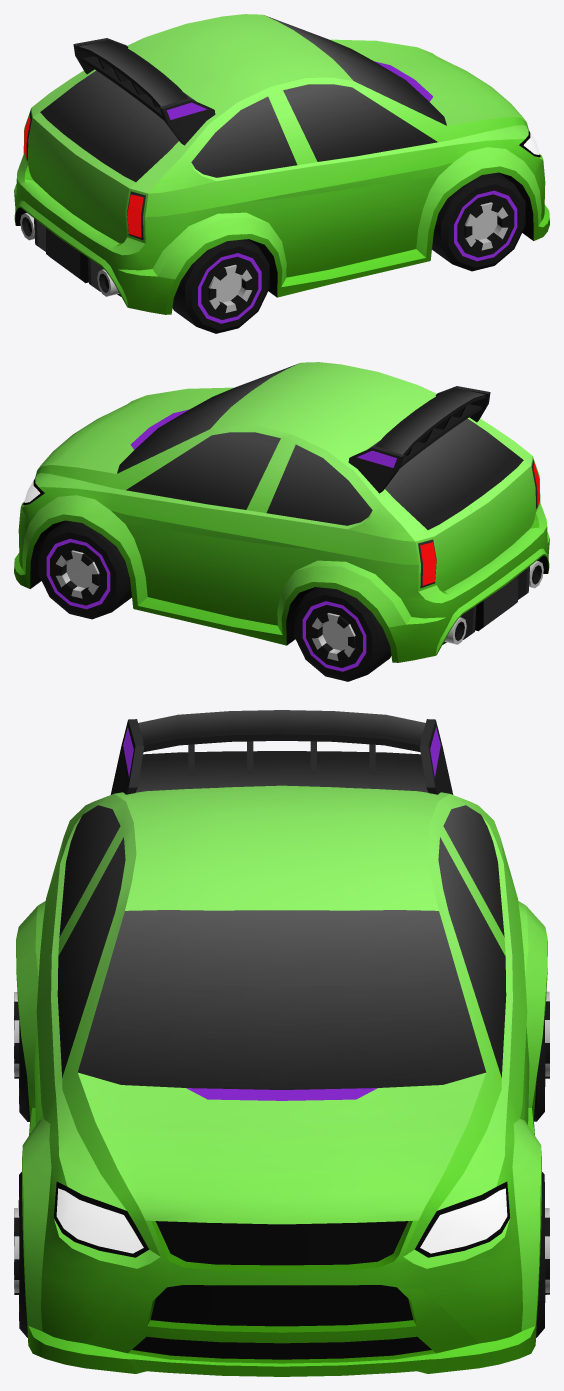
Rendered from Car_256.glb.
3 renders of one model, top to bottom at view 1: azimuth 30°, elevation 25°; view 2: azimuth 150°, elevation 25°; view 3: azimuth 270°, elevation 25°, orthographic. The views are drawn at different scales.
Visible parts, largest first — view 1: Car_256, wheel_1_Car_256_Wheel_2R, wheel_3_Car_256_Wheel_3R; view 2: Car_256, wheel_0_Car_256_Wheel_1L, wheel_2_Car_256_Wheel_3L; view 3: Car_256, wheel_0_Car_256_Wheel_1L, wheel_1_Car_256_Wheel_2R, wheel_2_Car_256_Wheel_3L, wheel_3_Car_256_Wheel_3R.
Part boxes in pixels (left/top/right/bottom): Car_256: left=14, top=14, right=549, bottom=314; wheel_1_Car_256_Wheel_2R: left=432, top=172, right=525, bottom=271; wheel_3_Car_256_Wheel_3R: left=172, top=239, right=269, bottom=333; Car_256: left=14, top=362, right=549, bottom=662; wheel_0_Car_256_Wheel_1L: left=38, top=520, right=131, bottom=619; wheel_2_Car_256_Wheel_3L: left=294, top=587, right=391, bottom=681; Car_256: left=16, top=710, right=547, bottom=1376; wheel_0_Car_256_Wheel_1L: left=536, top=1172, right=549, bottom=1337; wheel_1_Car_256_Wheel_2R: left=14, top=1172, right=27, bottom=1337; wheel_2_Car_256_Wheel_3L: left=533, top=991, right=549, bottom=1121; wheel_3_Car_256_Wheel_3R: left=14, top=992, right=29, bottom=1121.
Size of the model in its own units: 3.34 by 1.54 by 2.
Materials: 2 (2 with a texture image).
